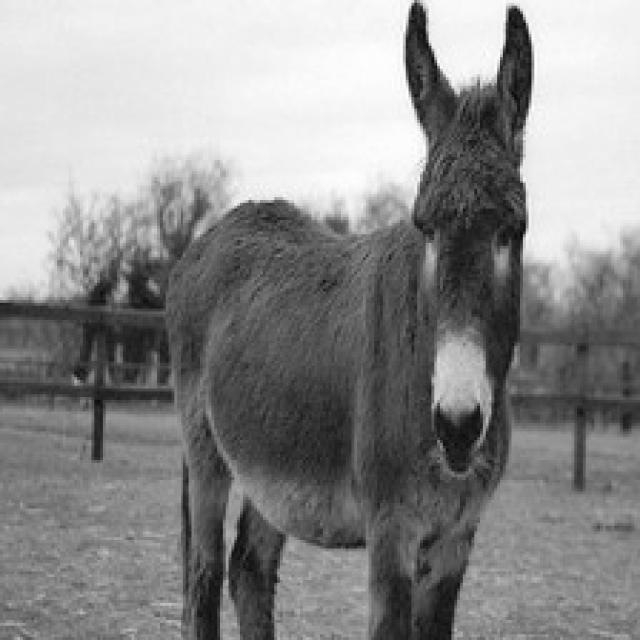Donkey: (160, 0, 534, 637)
